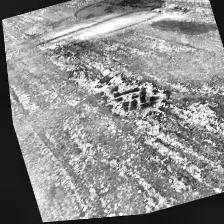pothole: (62, 47, 176, 139)
